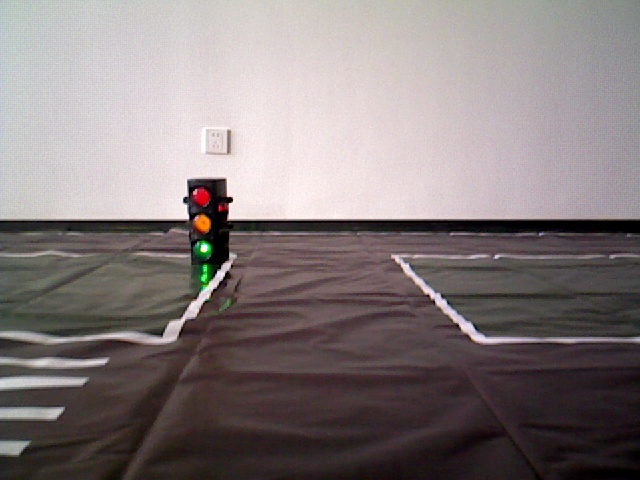green: (188, 182, 227, 257)
